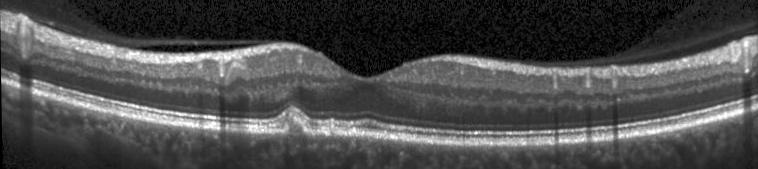retinal_drusen: (287, 116, 303, 133), (320, 124, 340, 136)
